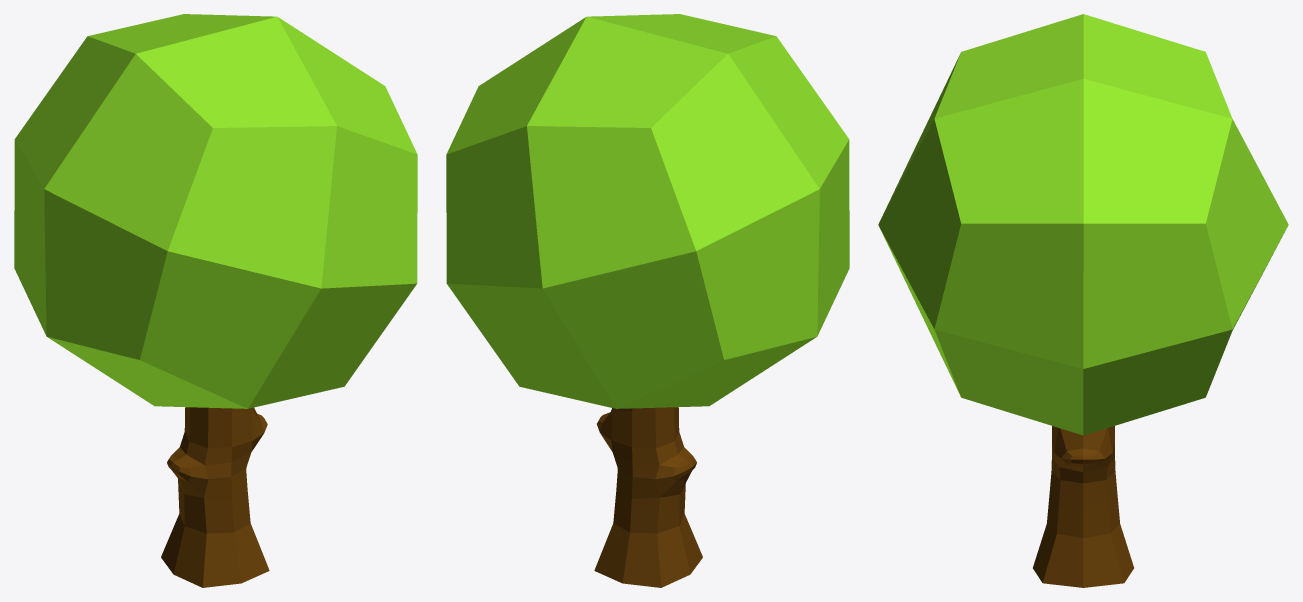
File: Tree5.glb
The picture shows the model from 3 angles, left to right: view 1: azimuth 30°, elevation 25°; view 2: azimuth 150°, elevation 25°; view 3: azimuth 270°, elevation 25°; orthographic projection. The views are drawn at different scales.
Visible parts, largest first — view 1: tree 1; view 2: tree 1; view 3: tree 1.
Boxes of the visible parts, box(x1,y1,x2,y2) form: tree 1: box(14, 14, 417, 587); tree 1: box(446, 14, 849, 587); tree 1: box(878, 14, 1288, 587).
Size of the model in its own units: 4.35 by 6.45 by 4.62.
